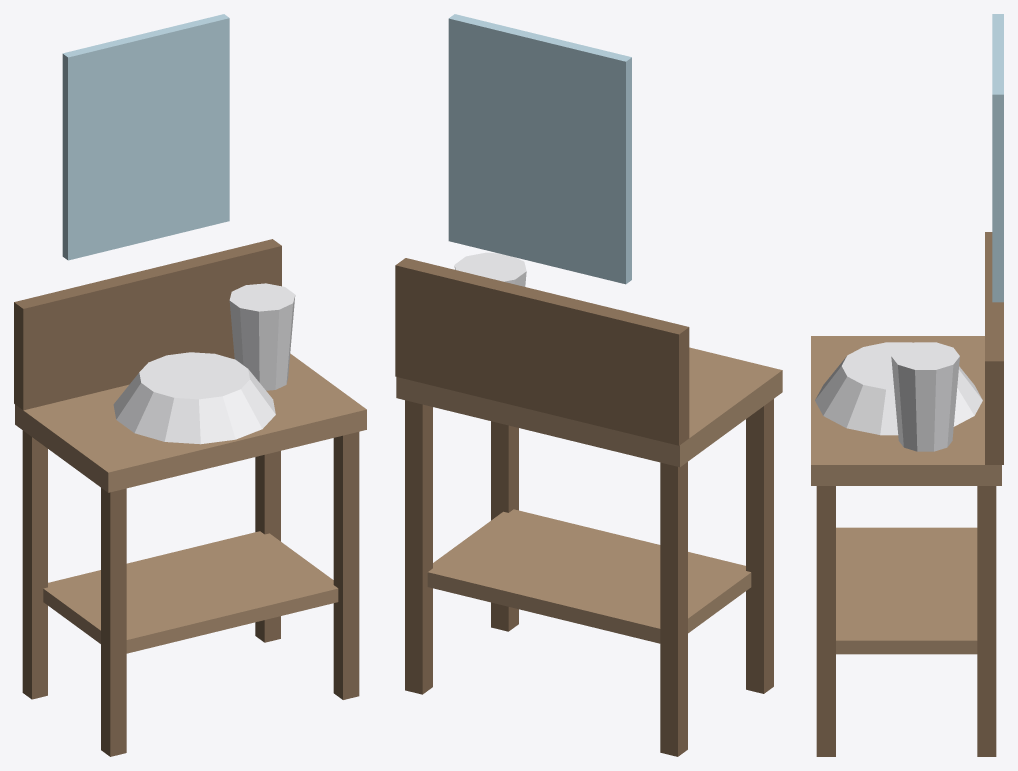
Rendered from washstand.glb.
The picture shows the model from 3 angles, left to right: view 1: azimuth 30°, elevation 25°; view 2: azimuth 150°, elevation 25°; view 3: azimuth 270°, elevation 25°; orthographic projection. The views are drawn at different scales.
Visible parts, largest first — view 1: washstand; view 2: washstand; view 3: washstand.
Boxes of the visible parts, x1,y1,x2,y2 form: washstand: (14, 14, 366, 756); washstand: (395, 14, 782, 756); washstand: (811, 14, 1003, 756).
Bounding box in the file's own units: 0.8 × 1.85 × 0.505.
